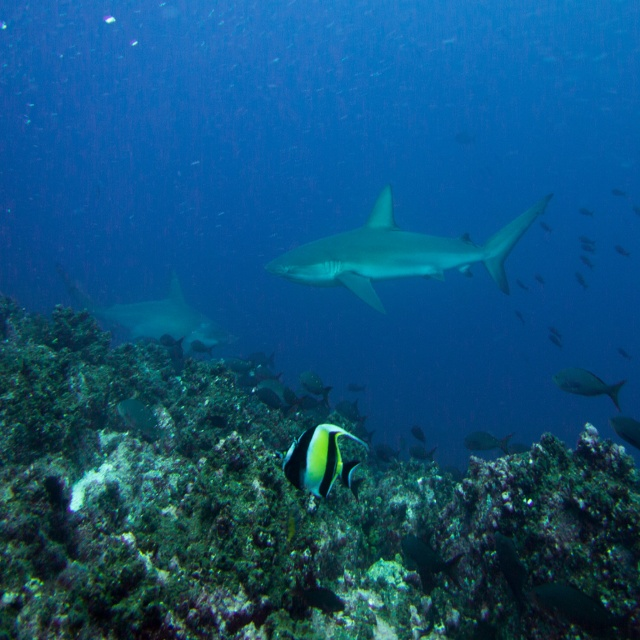Shark: (262, 181, 552, 312)
